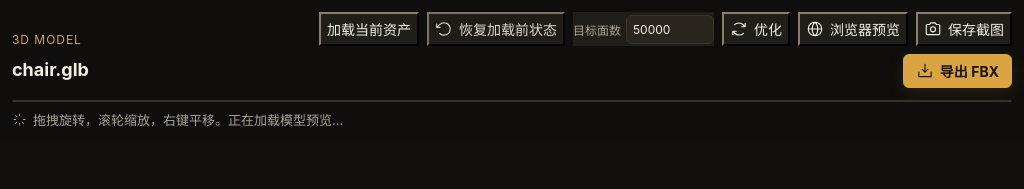
Scenario: ModelViewport › keeps an FBX conversion on the model page instead of opening the task center
The image size is (1024, 189).
Check: the heading "chair.glb" is shown, box [12,59,89,80]
Click the button "导出 FBX": point(957, 71) [903,54,1012,88]
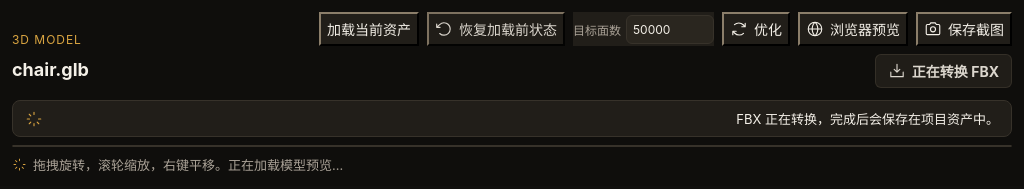
Check: the button "正在转换 FBX" is disabled, box [875,54,1012,88]
Check: the text "FBX 正在转换，完成后会保存在项目资产中。" is shown, box [12,100,1012,137]
